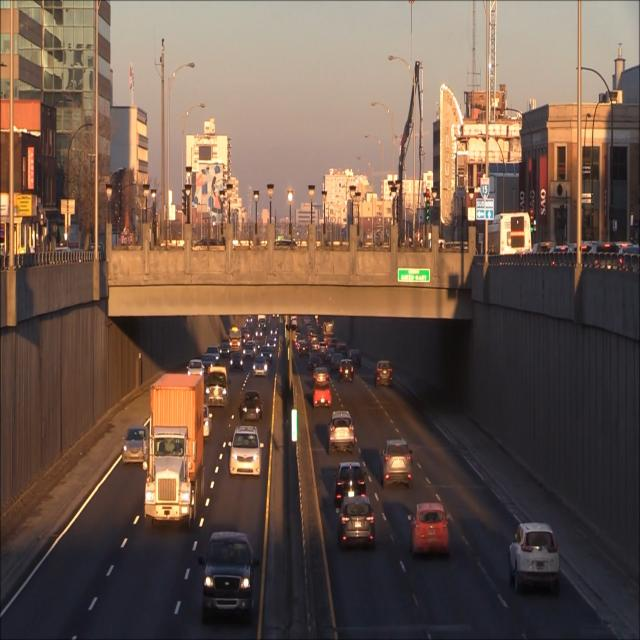Car: (144, 375, 206, 529), (203, 531, 258, 619), (506, 520, 562, 594), (338, 492, 379, 554), (408, 501, 451, 558), (228, 424, 263, 476), (384, 436, 414, 488), (333, 462, 368, 505), (327, 410, 356, 455), (205, 363, 231, 408), (122, 425, 150, 465), (239, 391, 265, 422), (311, 380, 333, 409), (374, 361, 393, 388), (339, 359, 356, 385), (251, 352, 268, 378), (187, 357, 205, 376), (230, 350, 244, 372), (313, 367, 331, 383)
